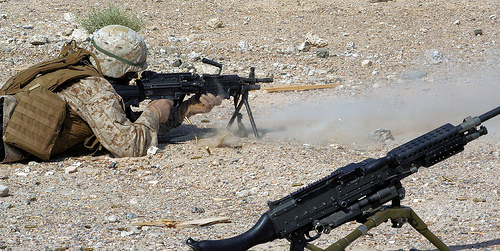rifle: (192, 133, 498, 248), (172, 59, 276, 90)
rifle in hand: (141, 52, 276, 131)
